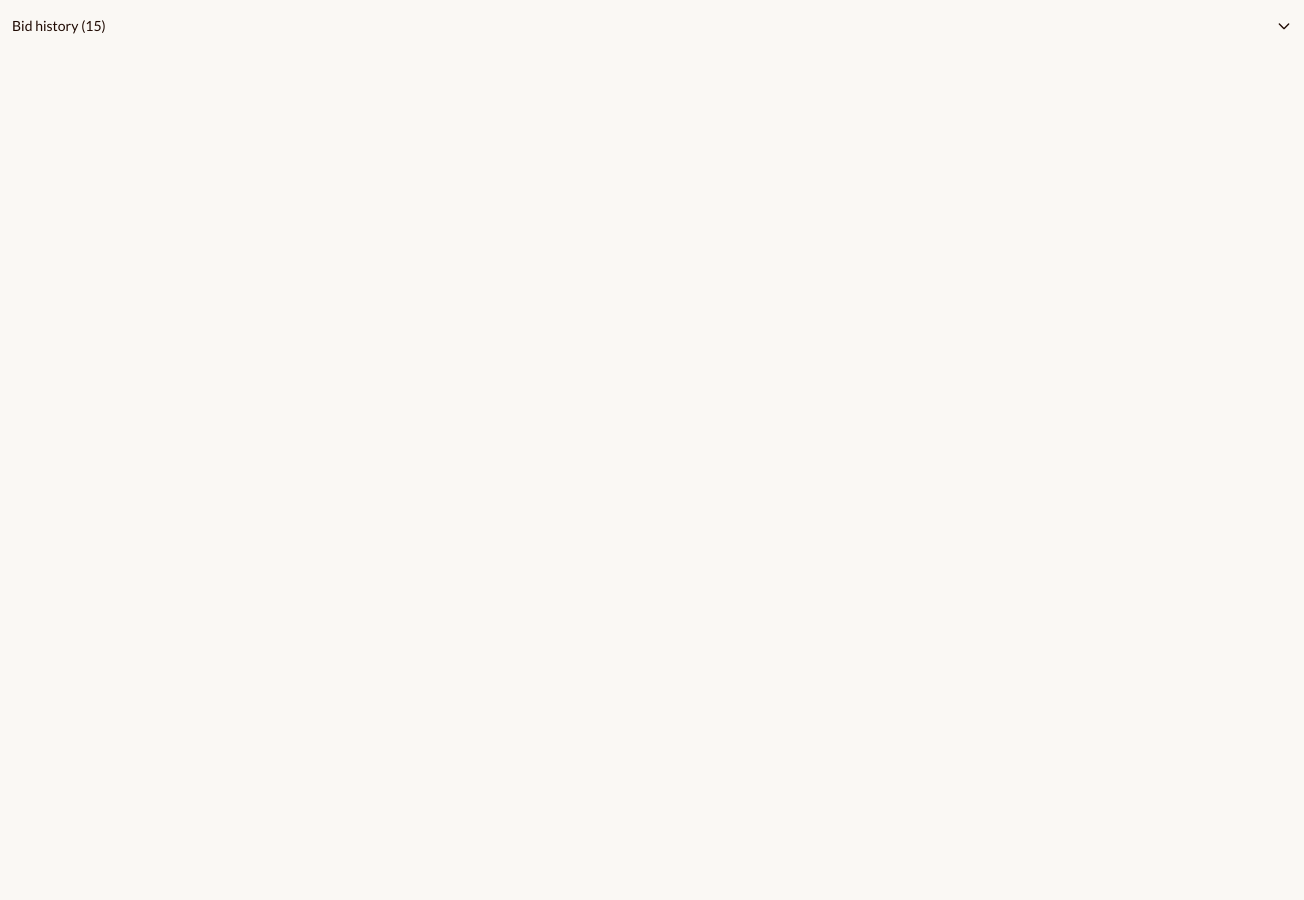
Test: BidHistory › show more › shows all bids after clicking "Pokaż więcej"
Click the button "Bid history (15)" at (45, 26), box [12, 16, 1292, 36]
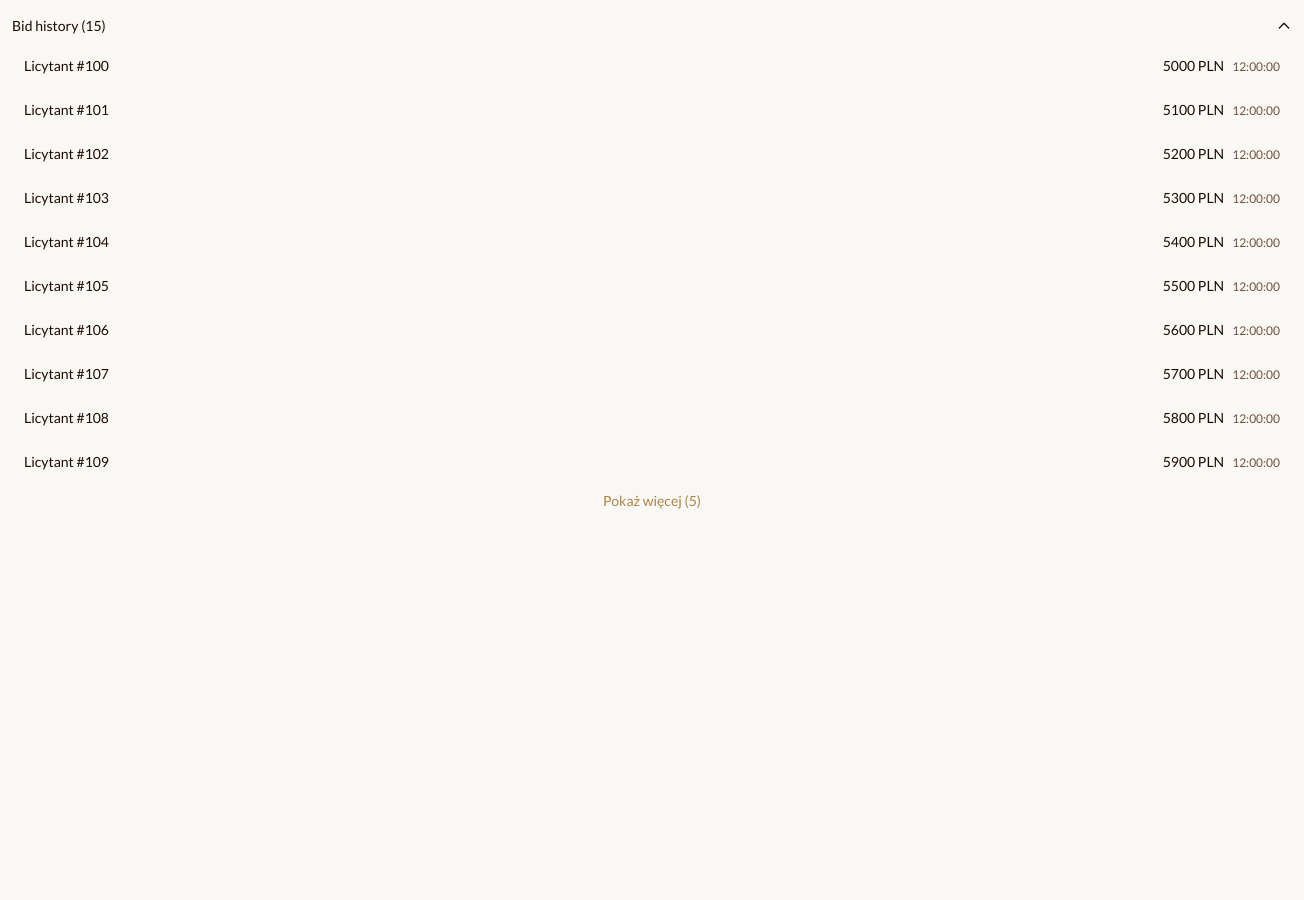
Click the button "Pokaż więcej (5)" at (652, 501), box [12, 491, 1292, 511]
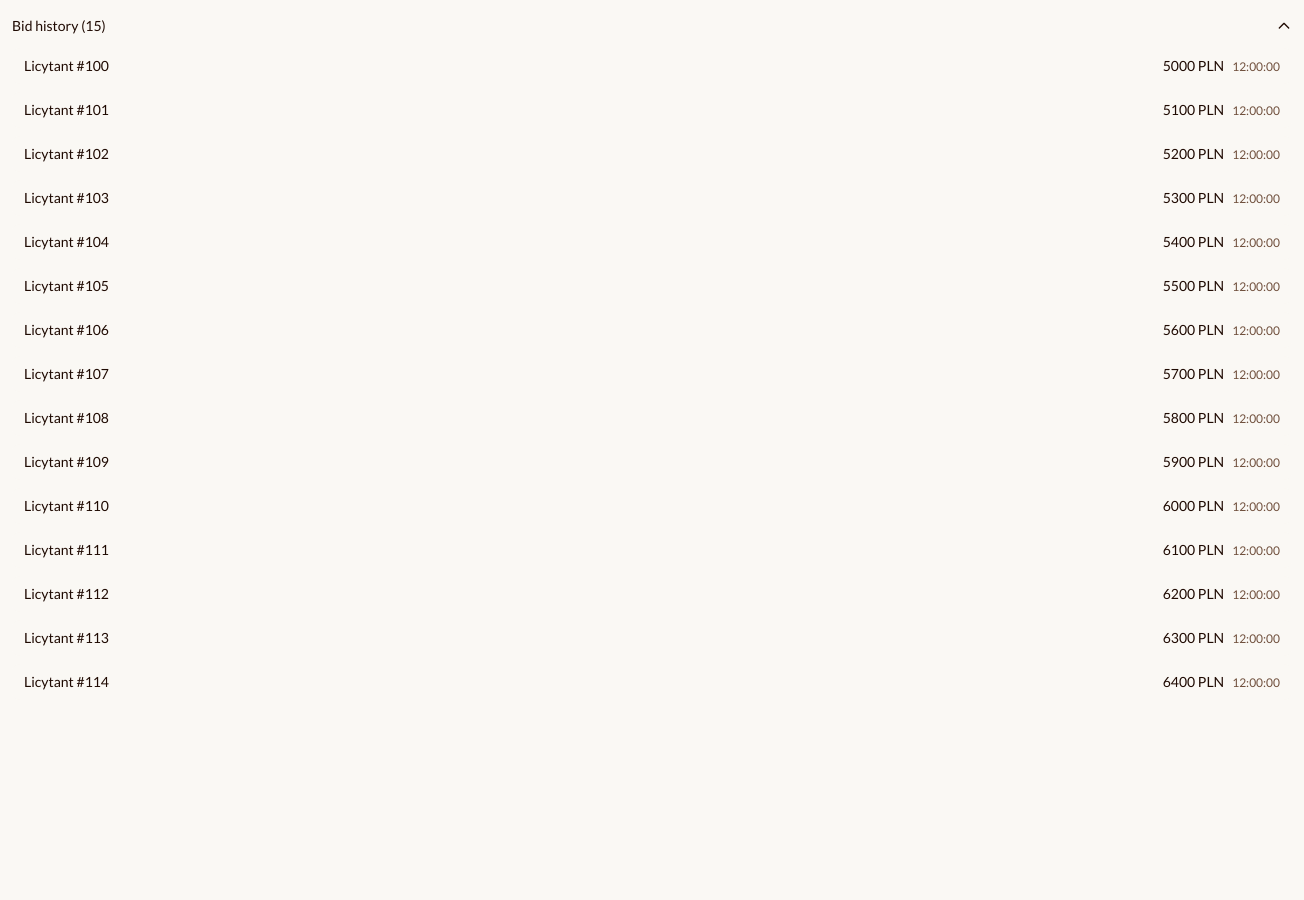
Expected: the text "Licytant #114" is shown, [24, 673, 109, 690]
